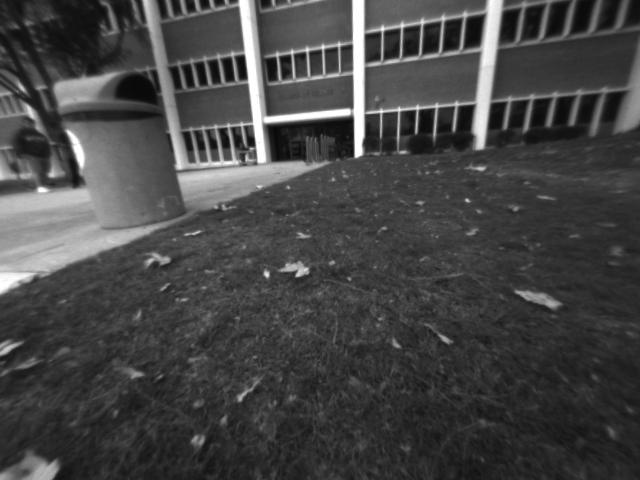trashcan: (37, 57, 204, 241)
